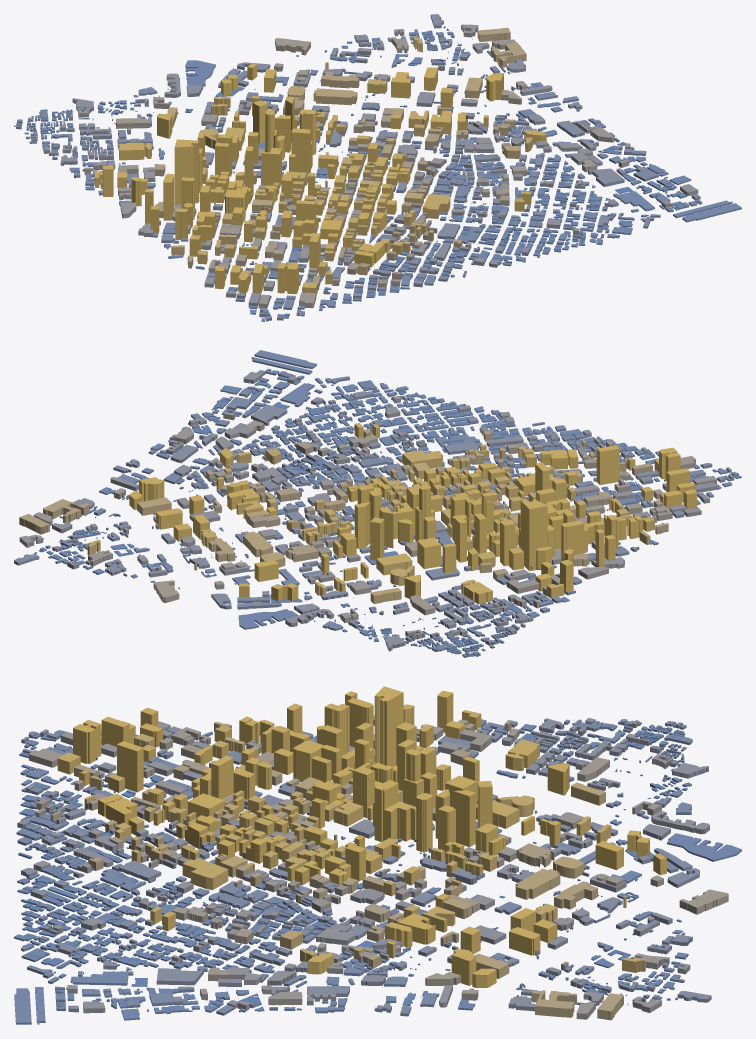
File: buildings.glb
3 views of the same model, one above another, from view 1: azimuth 30°, elevation 25°; view 2: azimuth 150°, elevation 25°; view 3: azimuth 270°, elevation 25° (orthographic). The views are drawn at different scales.
Parts seen in each view (by area): view 1: buildings; view 2: buildings; view 3: buildings.
Part boxes in pixels (x1,y1,x2,y2): buildings: (14, 14, 741, 321); buildings: (14, 350, 741, 657); buildings: (14, 686, 741, 1024).
Bounding box in the file's own units: 2816 × 345 × 2885.
